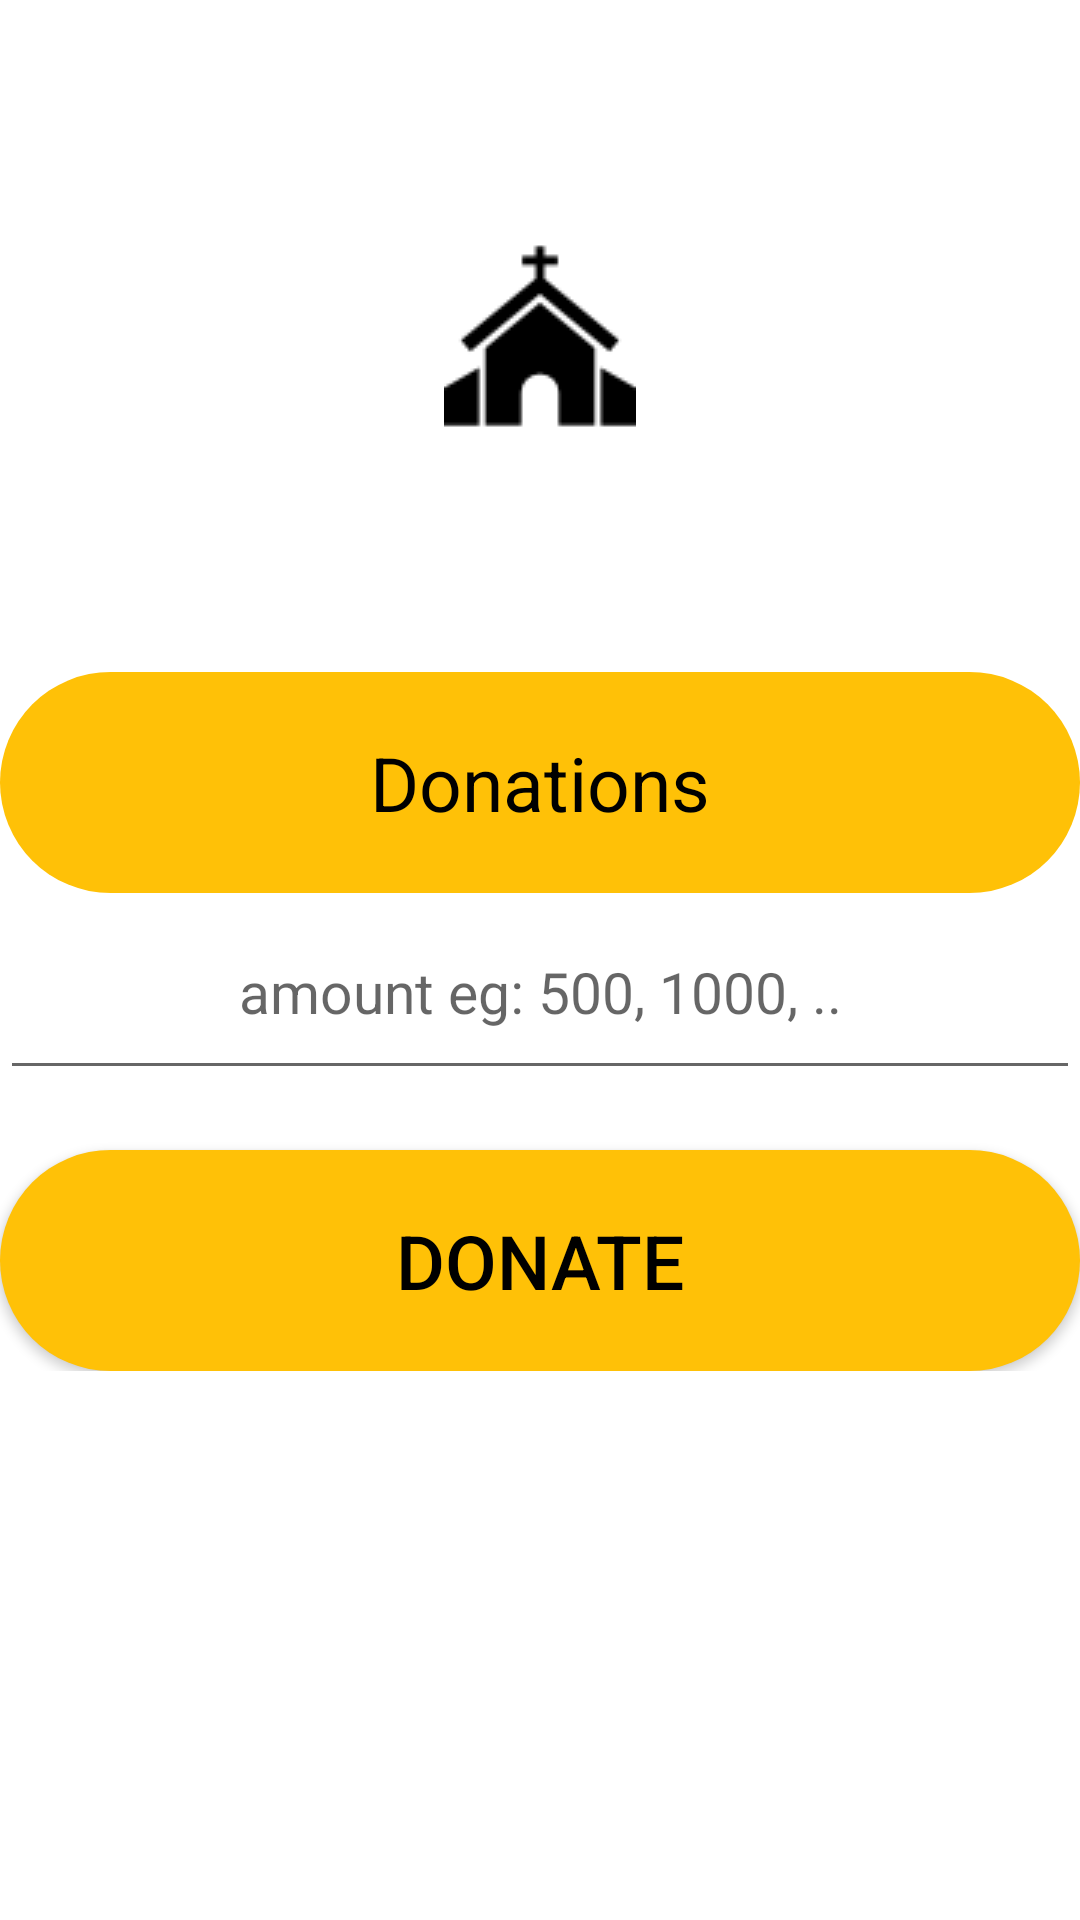

Point at icon controls on the screen. Image size 1080 × 1920, points as point (x, y).
church: point (540, 336)
